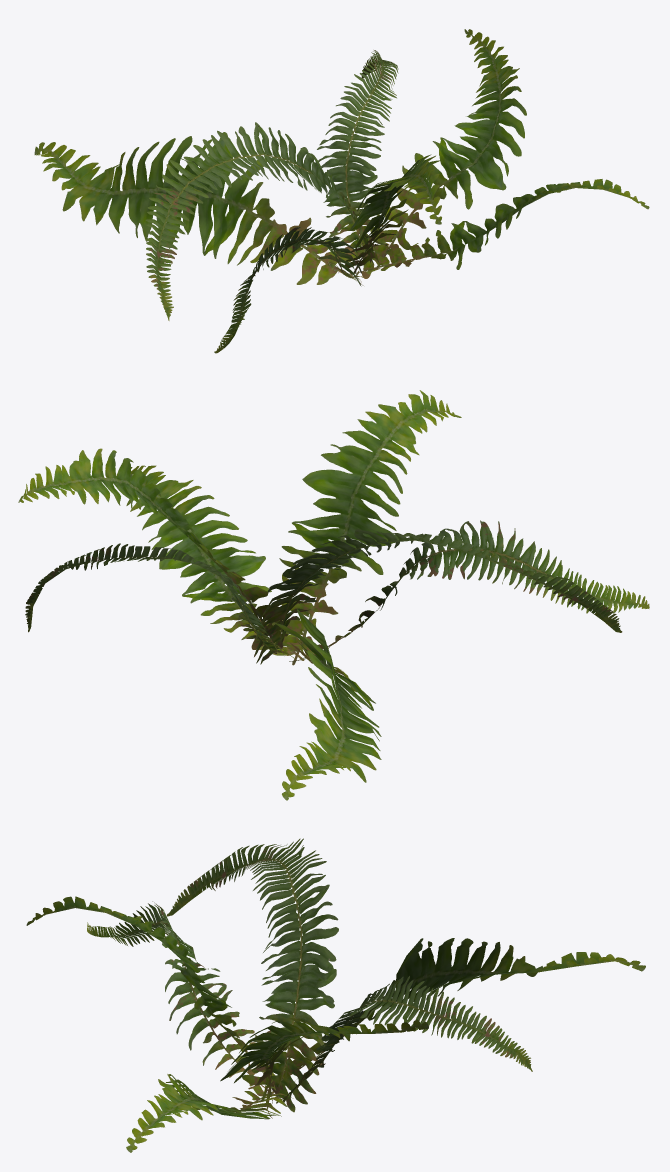
File: fern_02_d-v02.glb
3 views of the same model, one above another, from view 1: azimuth 30°, elevation 25°; view 2: azimuth 150°, elevation 25°; view 3: azimuth 270°, elevation 25° (orthographic). The views are drawn at different scales.
Parts seen in each view (by area): view 1: fern_02_d; view 2: fern_02_d; view 3: fern_02_d.
Boxes of the visible parts, x1,y1,x2,y2 form: fern_02_d: [34, 29, 649, 353]; fern_02_d: [18, 390, 649, 800]; fern_02_d: [26, 838, 645, 1152].
Size of the model in its own units: 0.5728 by 0.2131 by 0.5933.
1 material, 1 textured.
